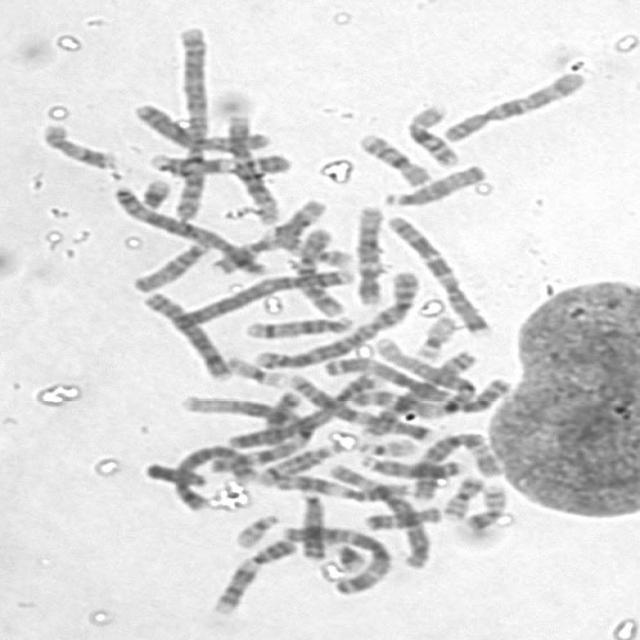A1: (176, 389, 312, 485), (342, 338, 487, 413)
A2: (246, 264, 424, 370), (166, 18, 213, 224)
A3: (317, 348, 505, 416), (275, 518, 395, 596)
B4: (219, 366, 388, 451), (170, 262, 358, 329)
B5: (108, 188, 260, 275), (166, 438, 258, 512)
C10: (433, 64, 589, 144), (287, 221, 347, 318)
C11: (207, 193, 330, 276), (266, 467, 418, 501)
C12: (217, 108, 284, 225), (347, 199, 388, 306)
C6: (321, 456, 433, 570), (405, 426, 501, 502)
C7: (379, 207, 496, 336), (279, 368, 434, 441)
C8: (348, 355, 477, 446), (135, 285, 234, 382)
C9: (203, 532, 299, 616), (139, 146, 298, 178)
D13: (354, 450, 466, 480), (292, 485, 329, 561)
D14: (251, 437, 343, 487), (236, 309, 358, 340)
D15: (375, 157, 490, 208), (124, 236, 214, 294)
E16: (350, 126, 433, 188), (397, 97, 463, 168)
E17: (32, 116, 120, 171), (264, 222, 354, 268)
E18: (356, 498, 445, 532), (262, 393, 303, 445)
F19: (220, 349, 289, 389), (409, 308, 460, 361)
F20: (456, 478, 510, 531), (436, 469, 487, 520)
G21: (132, 171, 174, 211), (324, 537, 369, 573)
G22: (226, 507, 282, 549), (347, 432, 420, 457)
X: (124, 96, 274, 152)
Y: (136, 456, 210, 488)
